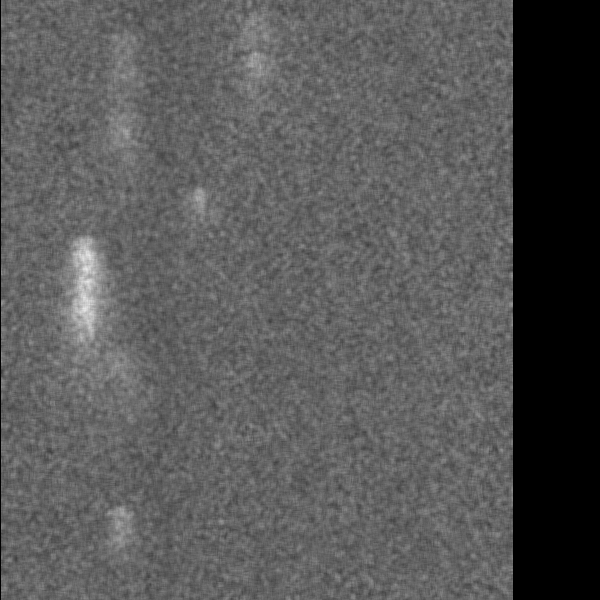spark: (66, 214, 101, 408), (104, 497, 134, 562), (184, 178, 214, 237), (246, 47, 266, 89), (113, 125, 134, 144)
